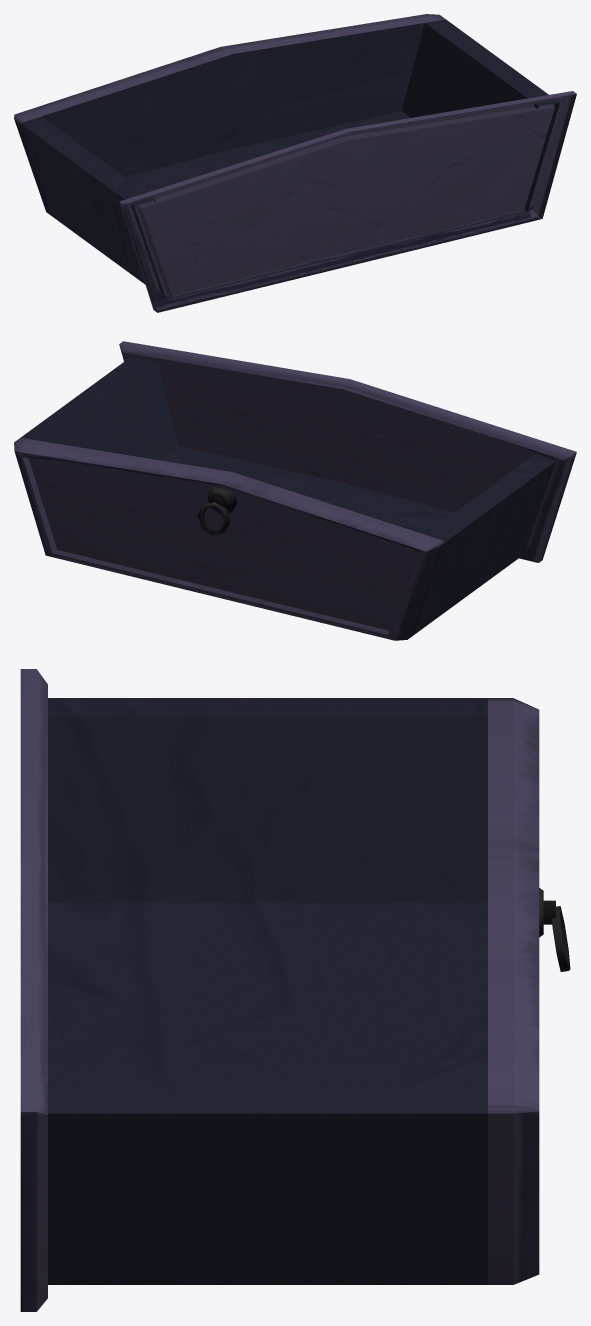
File: MOD_LongDrawerOpen_Block.fbx
3 views of the same model, one above another, from view 1: azimuth 30°, elevation 25°; view 2: azimuth 150°, elevation 25°; view 3: azimuth 270°, elevation 25° (orthographic). The views are drawn at different scales.
Visible parts, largest first — view 1: MOD_LongDrawerOpen_Block; view 2: MOD_LongDrawerOpen_Block; view 3: MOD_LongDrawerOpen_Block.
Boxes of the visible parts, x1,y1,x2,y2 form: MOD_LongDrawerOpen_Block: (14,14,576,312); MOD_LongDrawerOpen_Block: (14,341,576,640); MOD_LongDrawerOpen_Block: (20,669,570,1311).
Size of the model in its own units: 85.96 by 24.27 by 45.11.
1 material, 1 textured.
